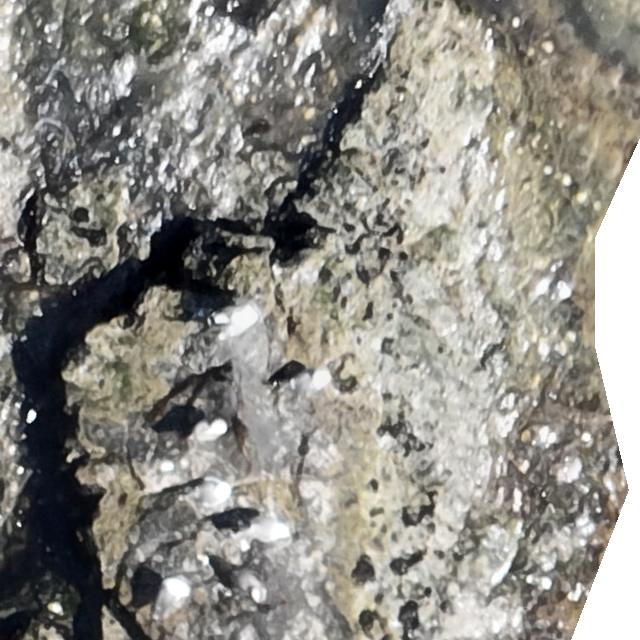umineko: (176, 475, 235, 507), (285, 369, 337, 400), (154, 580, 184, 630), (182, 417, 228, 448), (528, 574, 553, 589)
